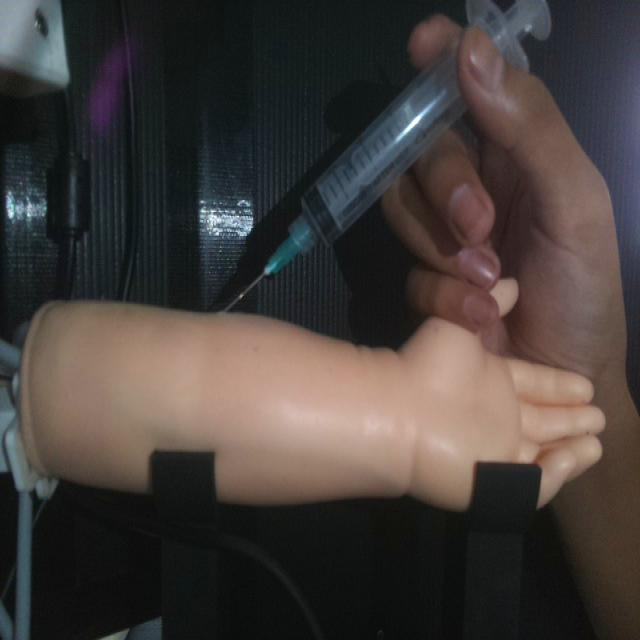Above 30 degrees: (218, 0, 552, 313)
